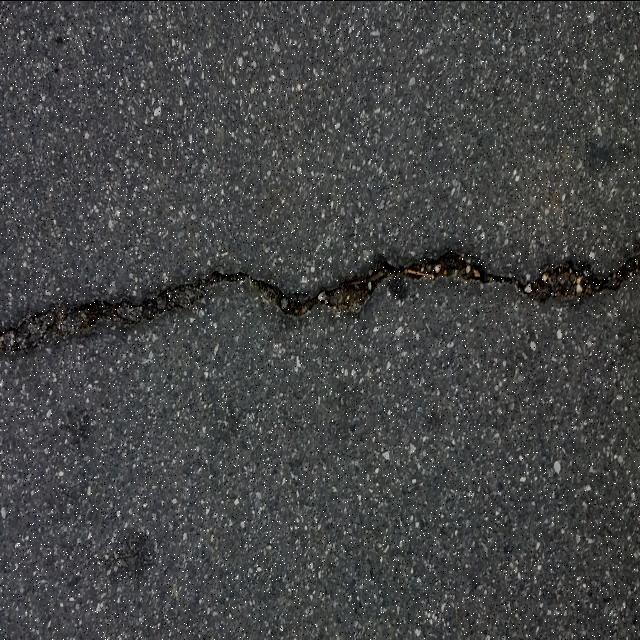Crack: (0, 248, 640, 351)
